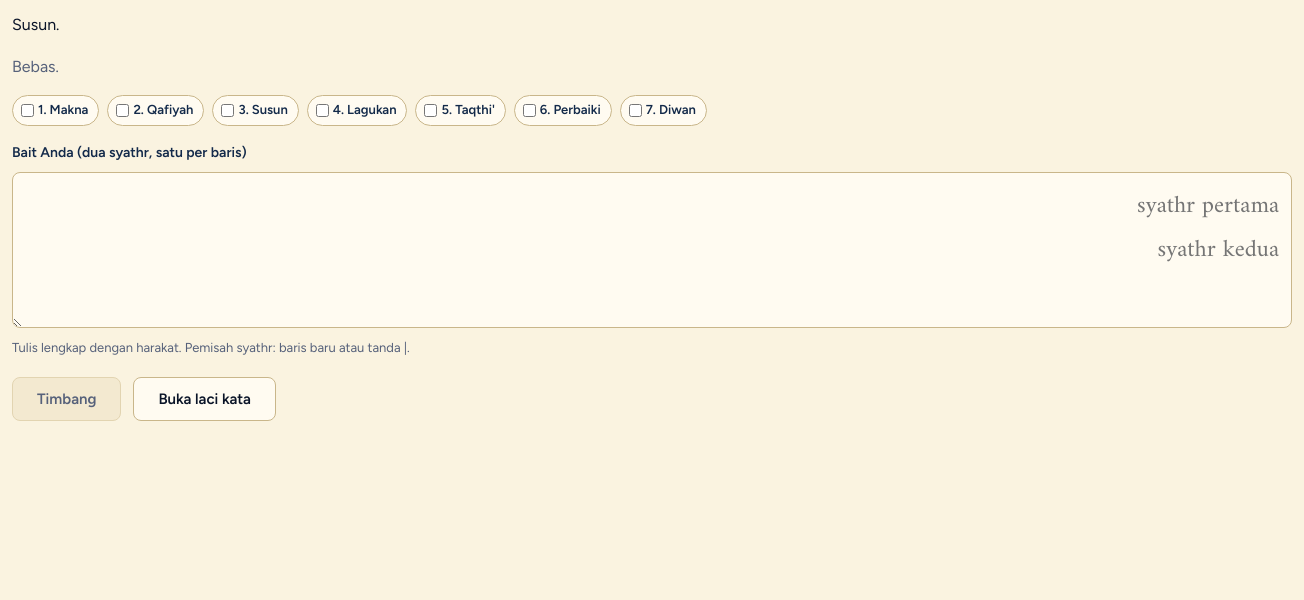
Test: Ujian Akhir: hanya Laci saya (audit 2026-10-26) › laci bawaan dicabut, Laci saya tetap ada
Click the button "Buka laci kata". click: (205, 399)
box: [133,377,276,421]
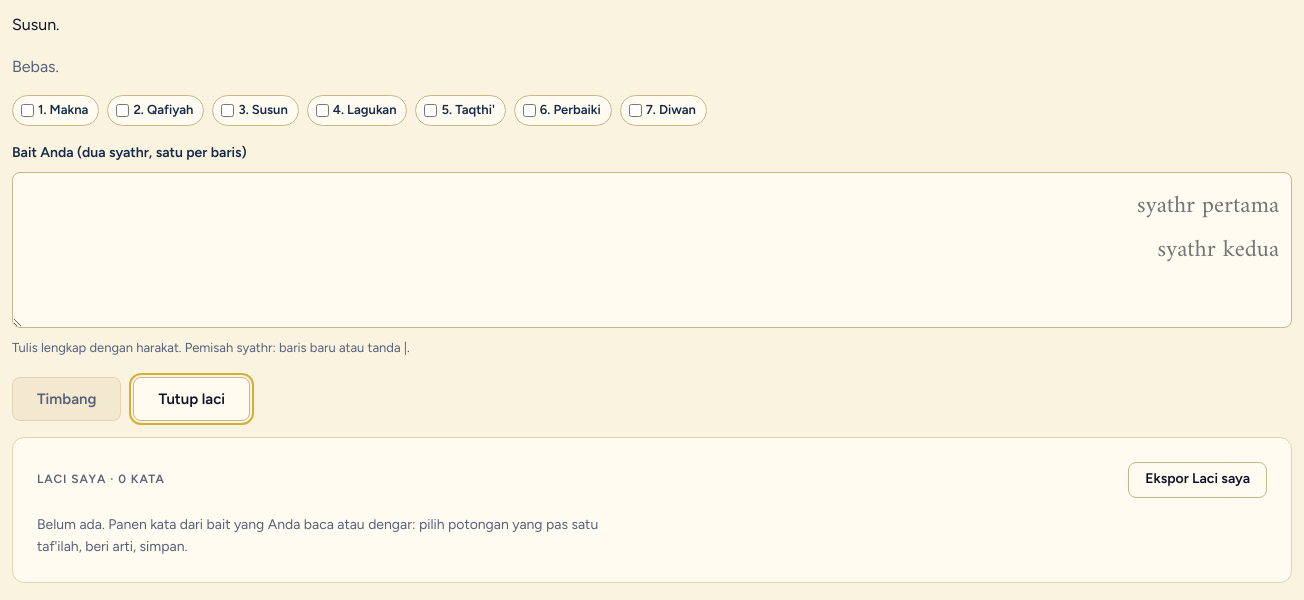
Expected: the element "Laci saya" is shown, [12,437,1292,583]
